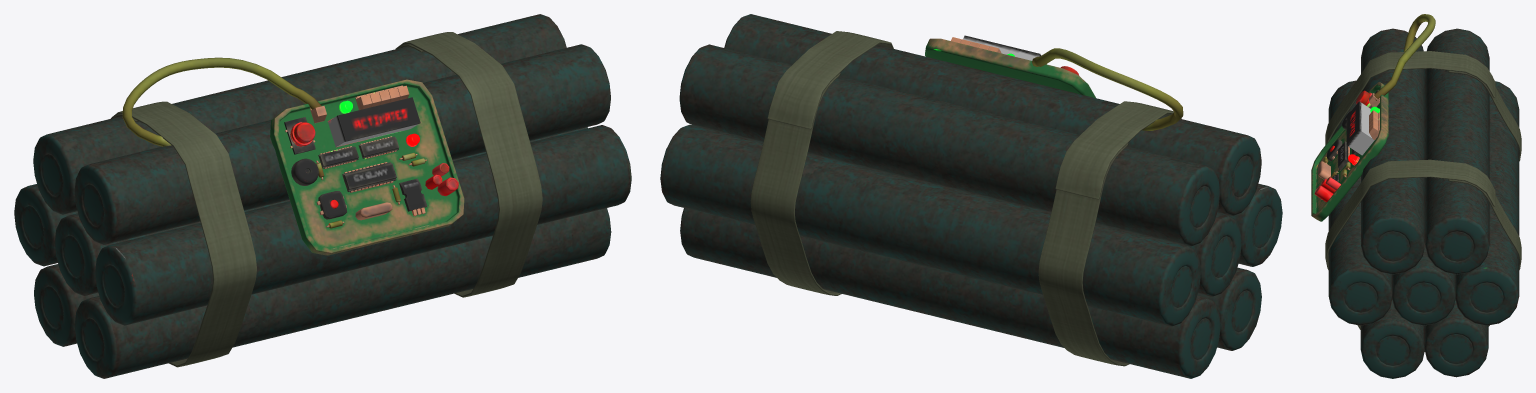
3 views of the same model, side by side, from view 1: azimuth 30°, elevation 25°; view 2: azimuth 150°, elevation 25°; view 3: azimuth 270°, elevation 25° (orthographic). The views are drawn at different scales.
Visible parts, largest first — view 1: pPlane4; view 2: pPlane4; view 3: pPlane4.
Boxes of the visible parts, x1=… form: pPlane4: x1=14, y1=14, x2=631, y2=378; pPlane4: x1=660, y1=14, x2=1282, y2=378; pPlane4: x1=1311, y1=14, x2=1521, y2=378.
Bounding box in the file's own units: 16.65 × 8.89 × 7.77.
Materials: 1 (1 with a texture image).
